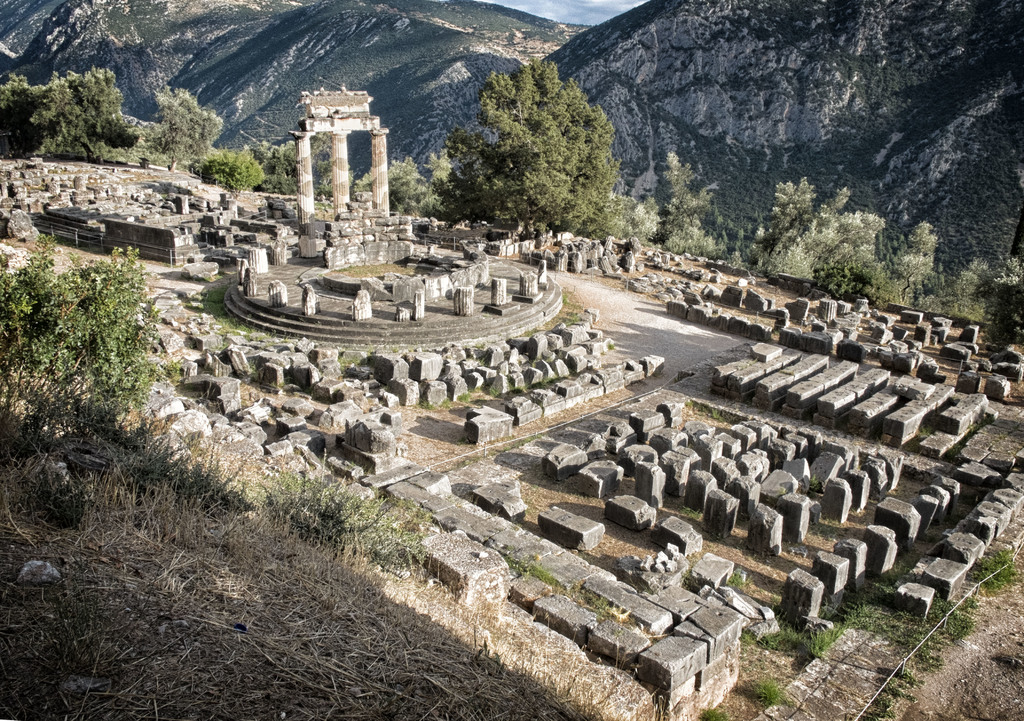Tree: (0, 55, 1024, 340), (0, 233, 183, 441)
